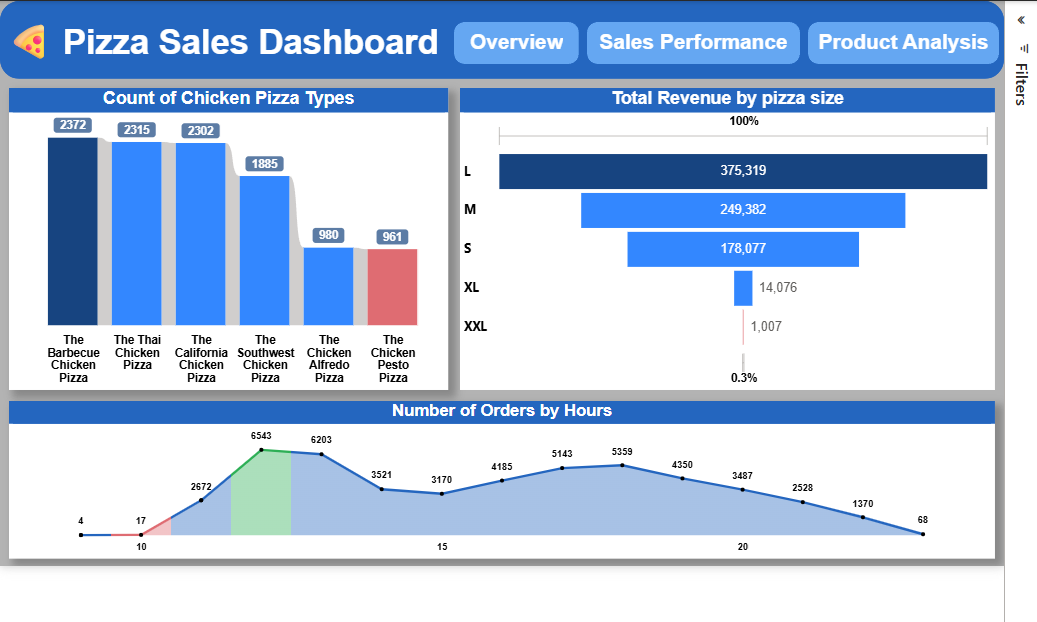

What the dashboard file says about the page in this screenshot:
{"tool":"powerbi","page":{"name":"Product Analysis","canvas":[1280,720],"ordinal":2},"visuals":[{"type":"shape","box":[0,0,1280,99.4],"z":0},{"type":"actionButton","box":[578.8,26.8,159.4,53.5],"z":1000},{"type":"actionButton","box":[748.4,26.8,271.6,53.5],"z":2000},{"type":"columnChart","title":"Count of Chicken Pizza Types","fields":{"Y":["Sum(pizza_chicken.Number of Orders)"],"Category":["pizza_chicken.pizza_name"]},"box":[11.6,110.5,560,385.5],"z":3000},{"type":"lineChart","title":"Number of Orders by Hours","fields":{"Y":["Sum(The_Most_Crowded_Hours.Number of Orders)"],"Category":["The_Most_Crowded_Hours.Hours"]},"box":[11.5,510,1257.1,201.4],"z":4000},{"type":"funnel","title":"Total Revenue by pizza size","fields":{"Category":["Sizes_With_Highest_Revenue.pizza_size"],"Y":["Sum(Sizes_With_Highest_Revenue.Total Revenue)"]},"box":[586.2,110.5,682.2,385.5],"z":5000},{"type":"actionButton","box":[1030.1,26.8,243.5,53.5],"z":6000}]}

Visuals, with their boxes on the page's 1280x720 design canvas (x1, y1, x2, y2). These are canvas units, not pixel positions in the 1037x622 screenshot, which may show the page scaled, cropped or inside an application window:
shape: crop(0, 0, 1280, 99)
actionButton: crop(579, 27, 738, 80)
actionButton: crop(748, 27, 1020, 80)
"Count of Chicken Pizza Types" columnChart: crop(12, 110, 572, 496)
"Number of Orders by Hours" lineChart: crop(12, 510, 1269, 711)
"Total Revenue by pizza size" funnel: crop(586, 110, 1268, 496)
actionButton: crop(1030, 27, 1274, 80)
